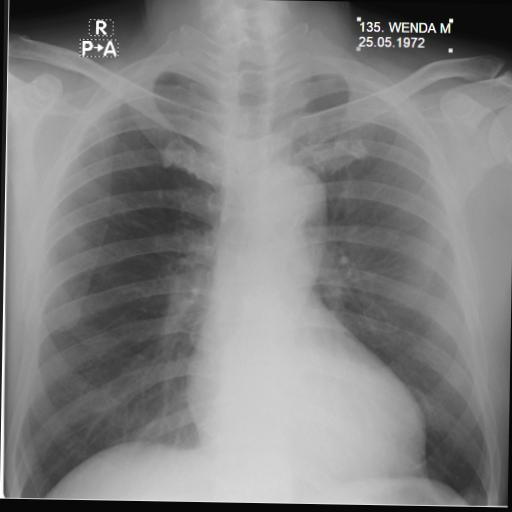kardiomegali: (12, 35, 509, 512)
